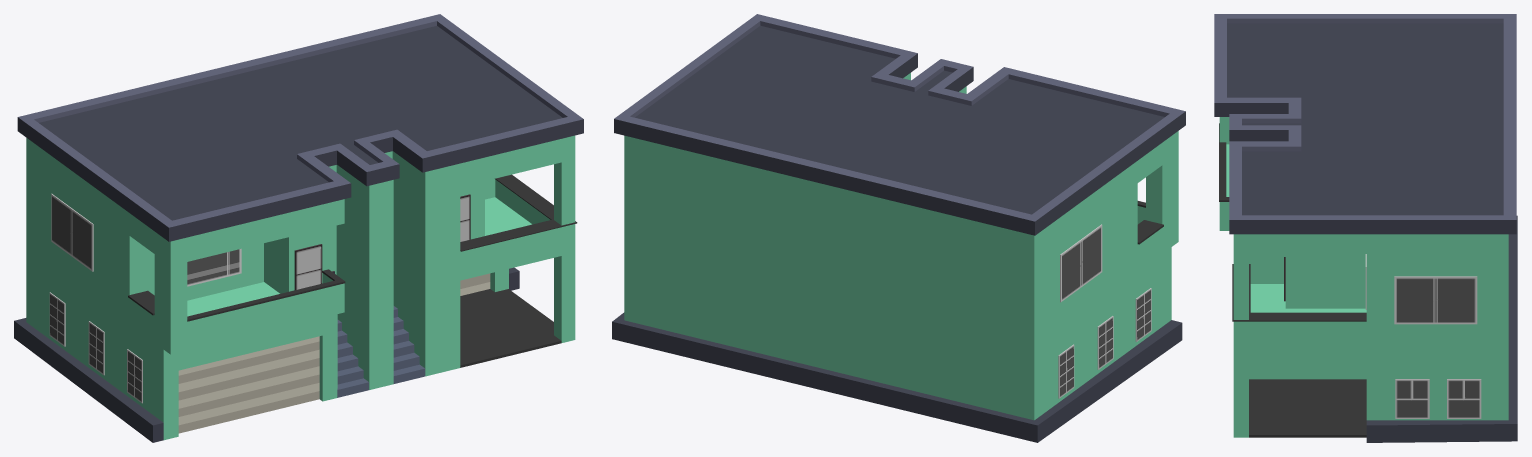
Rendered from house07_color03.fbx.
The picture shows the model from 3 angles, left to right: view 1: azimuth 30°, elevation 25°; view 2: azimuth 150°, elevation 25°; view 3: azimuth 270°, elevation 25°; orthographic projection.
Visible parts, largest first — view 1: house07_color03; view 2: house07_color03; view 3: house07_color03.
Part boxes in pixels (x1,y1,x2,y2): house07_color03: (14,14,583,442); house07_color03: (612,14,1185,442); house07_color03: (1214,14,1517,442).
Bounding box in the file's own units: 2020 × 984 × 1226.
